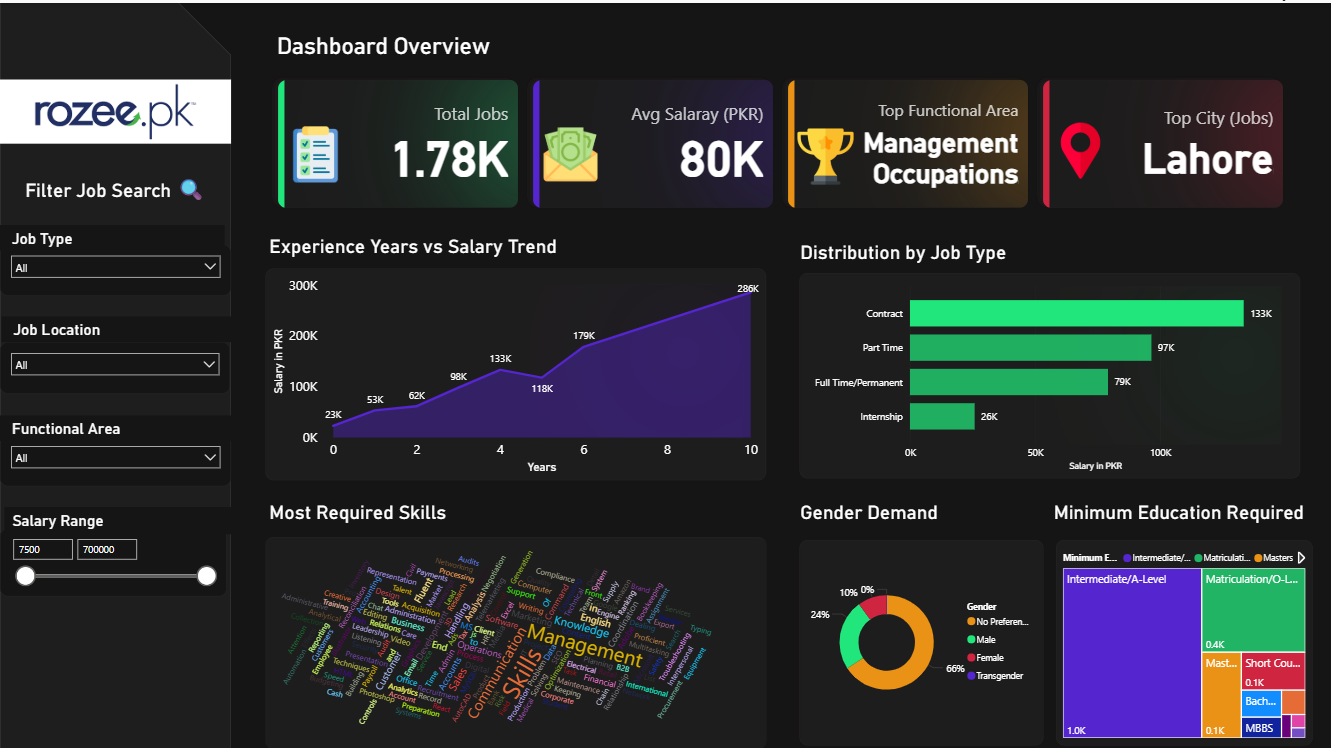

What the dashboard file says about the page in this screenshot:
{"tool":"powerbi","page":{"name":"Overview Page","canvas":[1664,936],"ordinal":0},"visuals":[{"type":"shape","box":[0,-8,288,944],"z":0},{"type":"slicer","fields":{"Values":["FINAL_JOB.Job City"]},"box":[0,537.3,288,64],"z":0,"group":"g3"},{"type":"slicer","fields":{"Values":["FINAL_JOB.Average Salary(PKR)"]},"box":[0,654.4,282.8,85.6],"z":0,"group":"g2"},{"type":"textbox","box":[0,513.3,288,32],"z":1000,"group":"g3"},{"type":"textbox","box":[5.2,628,282.8,34.2],"z":1000,"group":"g2"},{"type":"image","box":[0,96,288,80],"z":2000},{"type":"group","id":"g1","title":"Group 1","box":[331,80,1296,192],"z":3000},{"type":"cardVisual","fields":{"Data":["CountNonNull(FINAL_JOB.Title)"]},"box":[331,80,330,190],"z":3000,"group":"g1"},{"type":"textbox","box":[340.7,32,336,48],"z":4000},{"type":"cardVisual","fields":{"Data":["Avg(FINAL_JOB.Average Salary(PKR))"]},"box":[648.8,80,330,190],"z":4000,"group":"g1"},{"type":"cardVisual","fields":{"Data":["FINAL_JOB.TopPayingFunctionalArea"]},"box":[966.6,80,330,190],"z":5000,"group":"g1"},{"type":"clusteredBarChart","fields":{"Category":["FINAL_JOB.Job Type"],"Y":["Avg(FINAL_JOB.Average Salary(PKR))"]},"box":[996.7,335.8,624,256],"z":5000},{"type":"cardVisual","fields":{"Data":["FINAL_JOB.MostInDemandCity"]},"box":[1284.3,80,330,190],"z":6000,"group":"g1"},{"type":"textbox","box":[992,291.2,336,48],"z":6000},{"type":"lineChart","fields":{"Y":["Avg(FINAL_JOB.Average Salary(PKR))"],"Category":["FINAL_JOB.Minimum Experience"]},"box":[331.5,331.8,624,264],"z":7000},{"type":"textbox","box":[331,283.7,432,48],"z":8000},{"type":"WordCloud1447959067750","fields":{"Category":["FINAL_JOB.Skills"]},"box":[331.5,665.9,624,264],"z":9000},{"type":"textbox","box":[331,615.2,336,48],"z":10000},{"type":"textbox","box":[992,615.2,336,48],"z":11000},{"type":"donutChart","fields":{"Category":["FINAL_JOB.Gender"],"Y":["CountNonNull(FINAL_JOB.Title)"]},"box":[996.7,669.9,304,256],"z":12000},{"type":"textbox","box":[1309.3,615.2,336,48],"z":13000},{"type":"treemap","fields":{"Group":["FINAL_JOB.Minimum Education"],"Values":["CountNonNull(FINAL_JOB.Title)"]},"box":[1316.7,669.9,320,256],"z":14000},{"type":"slicer","fields":{"Values":["FINAL_JOB.Job Type"]},"box":[0,300,288,64],"z":15000,"group":"g5"},{"type":"group","id":"g2","title":"Group 2","box":[0,628,288,112],"z":15000},{"type":"textbox","box":[0,276,280.2,32],"z":16000,"group":"g5"},{"type":"group","id":"g3","title":"Group 3","box":[0,513.3,288,88],"z":16000},{"type":"group","id":"g4","title":"Group 4","box":[0,390.7,288,96],"z":17000},{"type":"slicer","fields":{"Values":["FINAL_JOB.Job City"]},"box":[0,422.3,286.7,64.4],"z":17000,"group":"g4"},{"type":"group","id":"g5","title":"Group 5","box":[0,276,288,88],"z":18000},{"type":"textbox","box":[1.3,390.7,286.7,32.2],"z":18000,"group":"g4"},{"type":"textbox","box":[0,208,288,48],"z":19000}]}

Visuals, with their boxes in screenshot pixels (x1, y1, x2, y2), scaled from the page's 1664x936 canvas onto the 1331x748 screenshot:
shape: region(0, 0, 230, 747)
slicer - FINAL_JOB.Job City: region(0, 429, 230, 481)
slicer - FINAL_JOB.Average Salary(PKR): region(0, 523, 226, 591)
textbox: region(0, 410, 230, 436)
textbox: region(4, 502, 230, 529)
image: region(0, 77, 230, 141)
"Group 1" group: region(265, 64, 1301, 217)
cardVisual - CountNonNull(FINAL_JOB.Title): region(265, 64, 529, 216)
textbox: region(273, 26, 541, 64)
cardVisual - Avg(FINAL_JOB.Average Salary(PKR)): region(519, 64, 783, 216)
cardVisual - FINAL_JOB.TopPayingFunctionalArea: region(773, 64, 1037, 216)
clusteredBarChart - FINAL_JOB.Job Type x Avg(FINAL_JOB.Average Salary(PKR)): region(797, 268, 1296, 473)
cardVisual - FINAL_JOB.MostInDemandCity: region(1027, 64, 1291, 216)
textbox: region(793, 233, 1062, 271)
lineChart - Avg(FINAL_JOB.Average Salary(PKR)) x FINAL_JOB.Minimum Experience: region(265, 265, 764, 476)
textbox: region(265, 227, 610, 265)
WordCloud1447959067750 - FINAL_JOB.Skills: region(265, 532, 764, 743)
textbox: region(265, 492, 534, 530)
textbox: region(793, 492, 1062, 530)
donutChart - FINAL_JOB.Gender x CountNonNull(FINAL_JOB.Title): region(797, 535, 1040, 740)
textbox: region(1047, 492, 1316, 530)
treemap - FINAL_JOB.Minimum Education x CountNonNull(FINAL_JOB.Title): region(1053, 535, 1309, 740)
slicer - FINAL_JOB.Job Type: region(0, 240, 230, 291)
"Group 2" group: region(0, 502, 230, 591)
textbox: region(0, 221, 224, 246)
"Group 3" group: region(0, 410, 230, 481)
"Group 4" group: region(0, 312, 230, 389)
slicer - FINAL_JOB.Job City: region(0, 337, 229, 389)
"Group 5" group: region(0, 221, 230, 291)
textbox: region(1, 312, 230, 338)
textbox: region(0, 166, 230, 205)
